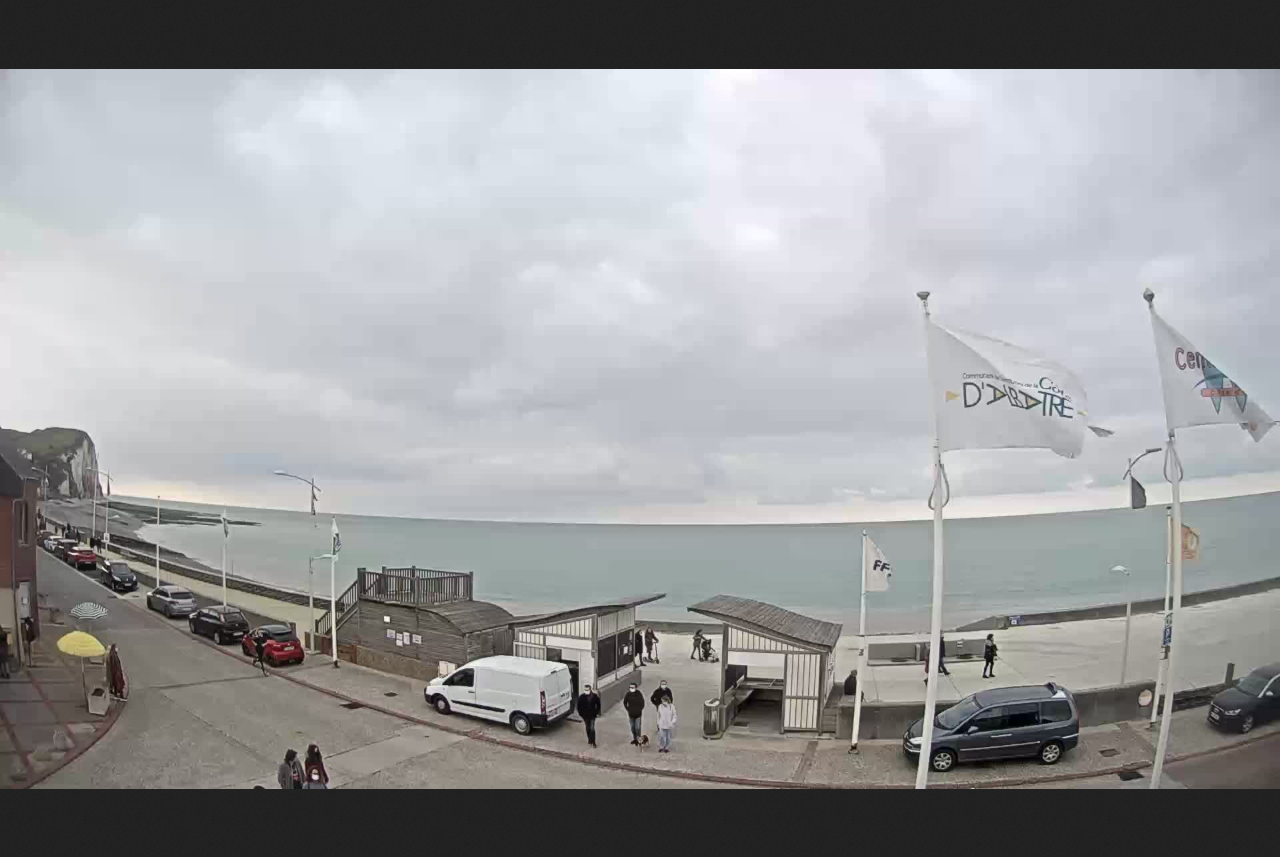maybe: (1151, 305, 1280, 449), (861, 537, 898, 596), (1167, 524, 1204, 569)
yes: (923, 320, 1093, 462)
